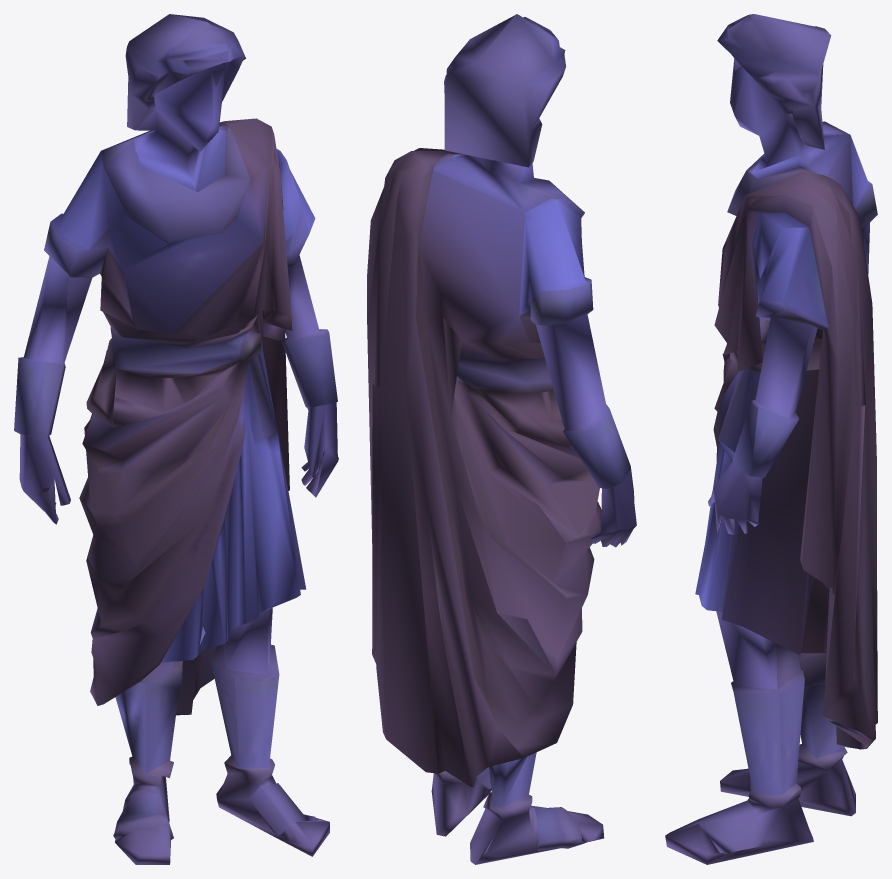
The model's file is model.progressive.glb.
3 renders of one model, left to right at view 1: azimuth 30°, elevation 25°; view 2: azimuth 150°, elevation 25°; view 3: azimuth 270°, elevation 25°, orthographic.
Visible parts, largest first — view 1: material; view 2: material; view 3: material.
Boxes of the visible parts, left/top/right/bottom form: material: left=14, top=14, right=338, bottom=864; material: left=367, top=14, right=636, bottom=864; material: left=665, top=14, right=877, bottom=864.
Size of the model in its own units: 0.6815 by 1.9 by 0.4551.
Materials: 1 (1 with a texture image).
